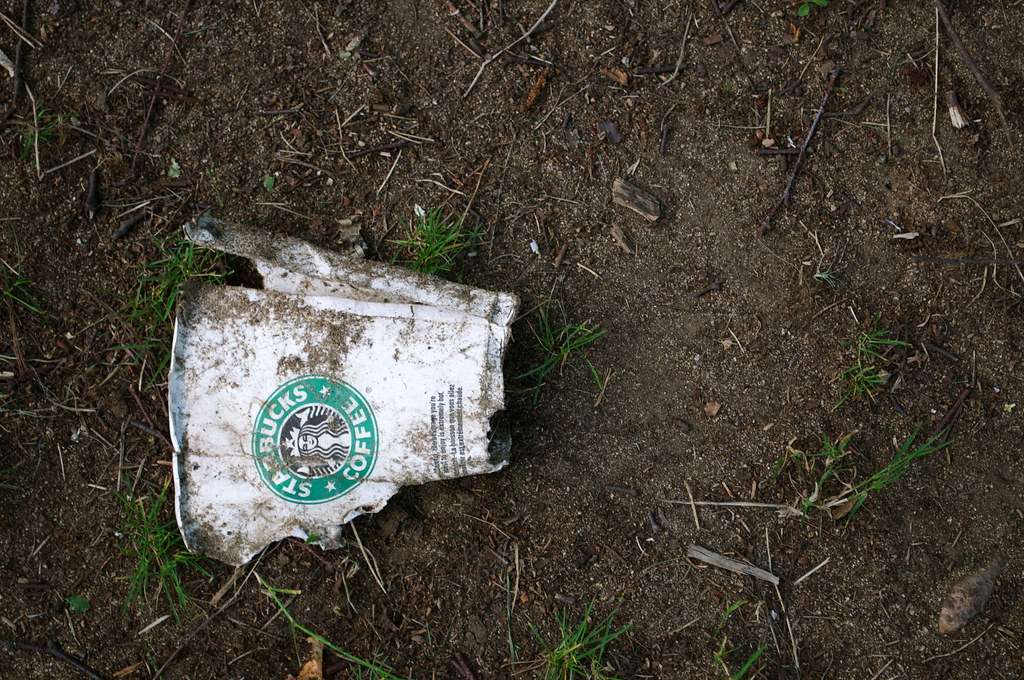cup: (139, 202, 543, 579)
